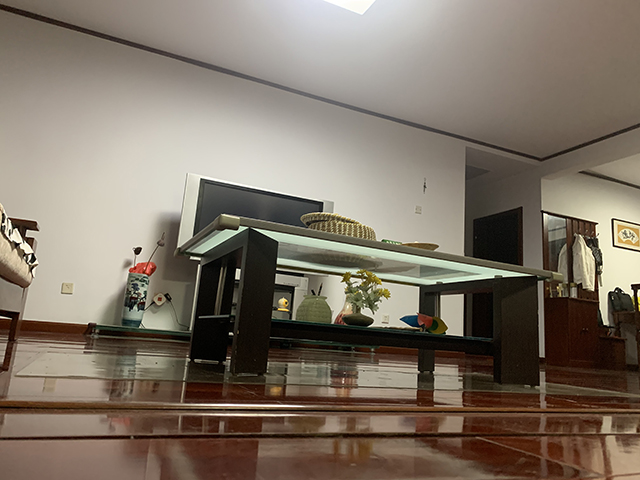cabinet: (83, 256, 330, 342), (545, 296, 604, 370), (604, 334, 628, 370)
table: (171, 212, 568, 389)
